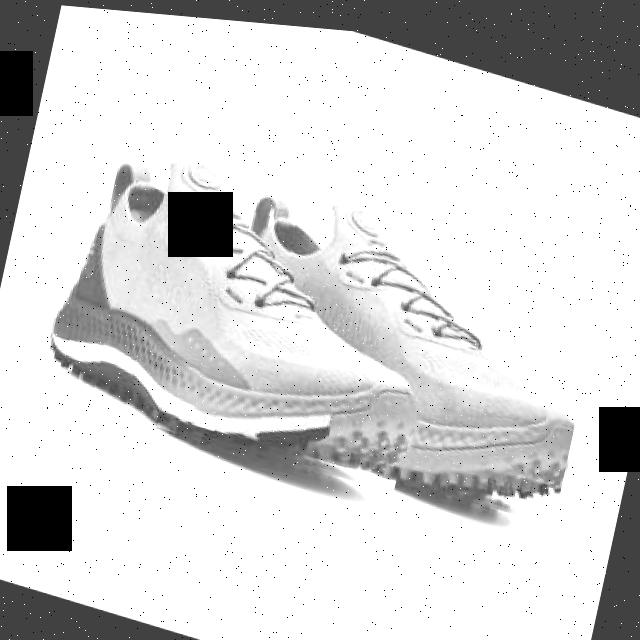shoe: (179, 163, 605, 526), (39, 125, 448, 498)
